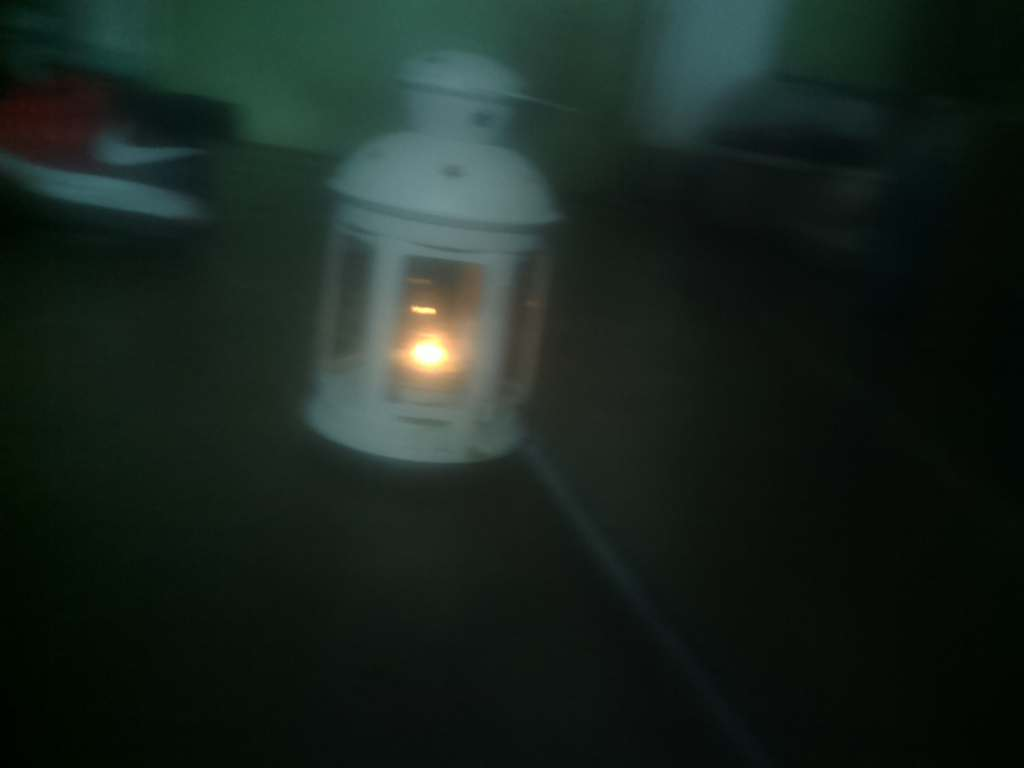fire: (389, 304, 492, 402)
